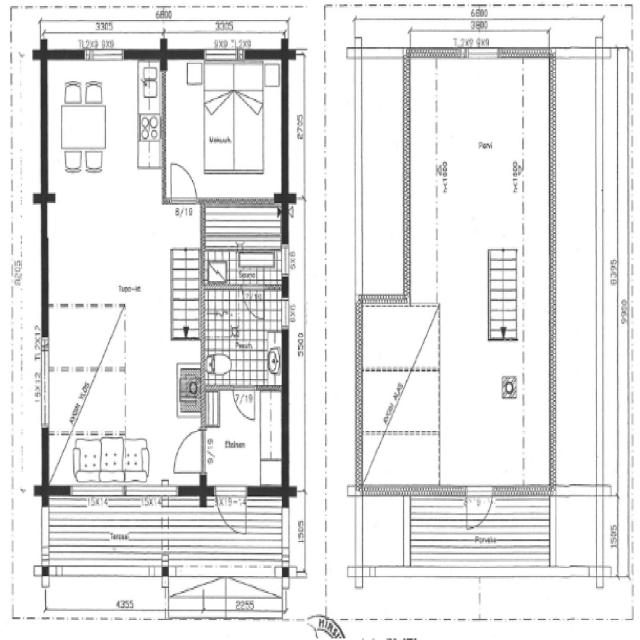door: (212, 484, 252, 541), (170, 421, 207, 478), (165, 157, 201, 207), (462, 484, 496, 536), (230, 383, 260, 426)
window: (36, 329, 54, 434), (125, 479, 184, 511), (67, 478, 123, 506), (200, 44, 248, 69), (81, 45, 128, 67), (38, 502, 52, 570), (279, 501, 293, 562), (464, 44, 501, 66), (278, 240, 292, 282), (279, 295, 291, 334)
zone: (43, 55, 164, 300), (45, 301, 200, 483), (161, 58, 285, 201), (200, 390, 286, 492), (202, 284, 285, 388), (201, 200, 285, 288), (73, 436, 103, 477)
